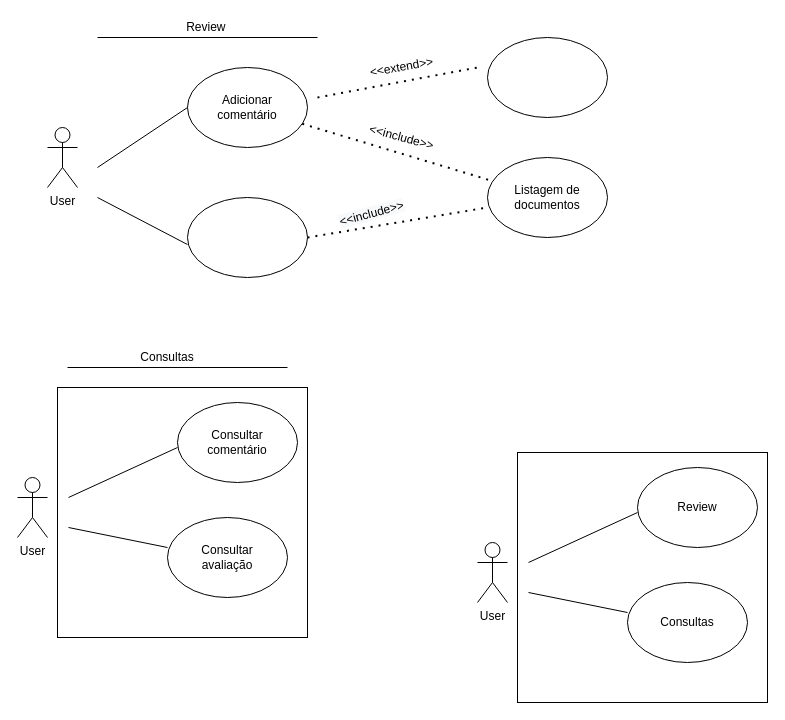
This 785x720 diagram has some shape labels left out. The shapes that lost their labels are listed below. From the top down, each one's centre as x and y in pixels, then its label:
At point (547, 77): "Introduzir link".
At point (247, 237): "Avaliar documento".
